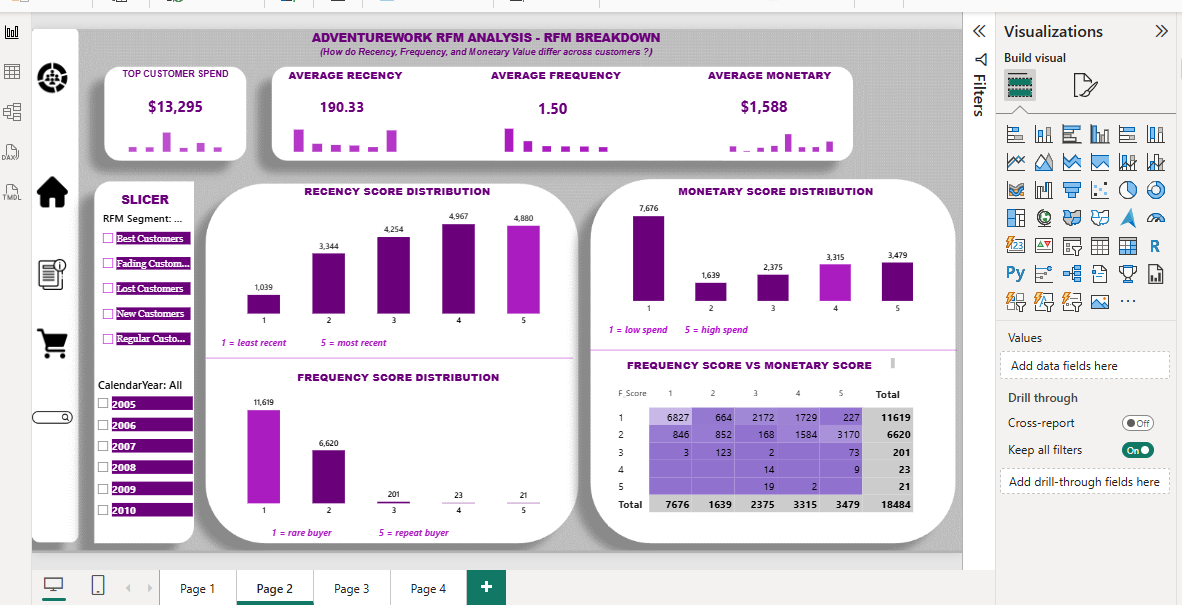

The page's visual inventory and layout, read from the dashboard file:
{"tool":"powerbi","page":{"name":"Page 2","canvas":[1920,1080],"ordinal":1},"visuals":[{"type":"textbox","box":[479,0,916.6,59.9],"z":0},{"type":"cardVisual","fields":{"Data":["_Measures.Average Recency"]},"box":[509.9,136.3,260.1,45.4],"z":1000},{"type":"cardVisual","fields":{"Data":["_Measures.Average Frequency"]},"box":[960,142.5,229.2,39.2],"z":2000},{"type":"cardVisual","fields":{"Data":["_Measures.Average Monetary"]},"box":[1395.6,136.3,231.2,45.4],"z":3000},{"type":"textbox","box":[1395.6,80.5,274.6,31],"z":4000},{"type":"textbox","box":[908.4,80.5,346.8,33],"z":5000},{"type":"textbox","box":[509.9,80.5,274.6,33],"z":6000},{"type":"clusteredColumnChart","fields":{"Category":["DimGeography.EnglishCountryRegionName"],"Y":["_Measures.Total Revenue"]},"box":[524.4,181.7,245.7,88.8],"z":7000},{"type":"clusteredColumnChart","fields":{"Category":["DimGeography.CountryRegionCode"],"Y":["_Measures.Total Customers"]},"box":[960,181.7,245.7,88.8],"z":8000},{"type":"clusteredColumnChart","fields":{"Category":["DimProduct.Color"],"Y":["_Measures.Total Customers"]},"box":[1424.5,189.9,245.7,80.5],"z":9000},{"type":"cardVisual","fields":{"Data":["_Measures.Highest Customer Spend"]},"box":[183.7,136.3,225,45.4],"z":10000},{"type":"textbox","box":[163.1,82.6,266.3,28.9],"z":11000},{"type":"clusteredColumnChart","fields":{"Category":["DimGeography.FrenchCountryRegionName"],"Y":["_Measures.Total Customers"]},"box":[183.7,189.9,225,80.5],"z":12000},{"type":"clusteredColumnChart","fields":{"Category":["DimCustomer.R_Score"],"Y":["_Measures.Total Customers"]},"box":[408.4,350.3,675.5,282.6],"z":13000},{"type":"textbox","box":[452.1,320,604.9,31],"z":14000},{"type":"clusteredColumnChart","fields":{"Category":["DimCustomer.F_Score"],"Y":["_Measures.Total Customers"]},"box":[408.4,735.5,675.5,290.3],"z":15000},{"type":"textbox","box":[408.8,704,695.7,31],"z":16000},{"type":"textbox","box":[360,632.9,743.2,32.9],"z":17000},{"type":"shape","box":[360,665.8,756.8,25.2],"z":18000},{"type":"textbox","box":[478.1,1025.8,536.1,31],"z":19000},{"type":"clusteredColumnChart","fields":{"Category":["DimCustomer.M_Score"],"Y":["_Measures.Total Customers"]},"box":[1205.8,334.8,648.4,272.9],"z":20000},{"type":"textbox","box":[1254.2,319.4,565.2,31],"z":21000},{"type":"pivotTable","fields":{"Columns":["DimCustomer.M_Score"],"Rows":["DimCustomer.F_Score"],"Values":["_Measures.Total Customers"]},"box":[1188.4,720,648.4,305.8],"z":22000},{"type":"slicer","fields":{"Values":["DimCustomer.RFM Segment"]},"box":[137.3,375.4,188.8,317.5],"z":23000},{"type":"textbox","box":[137.4,334.8,189.7,56.1],"z":24000},{"type":"textbox","box":[1189.2,662.7,590.5,55.7],"z":25000},{"type":"shape","box":[1151.6,650.3,756.8,25.2],"z":26000},{"type":"textbox","box":[1165.2,607.7,371.6,25.2],"z":27000},{"type":"image","box":[0,59.9,84.6,82.6],"z":28000},{"type":"image","box":[0,299.4,84.6,74.3],"z":29000},{"type":"image","box":[0,472.8,84.6,68.1],"z":30000},{"type":"image","box":[0,759.4,83.7,83.7],"z":31000},{"type":"slicer","fields":{"Values":["DimDate.CalendarYear"]},"box":[128.7,718.7,203.8,334.7],"z":32000},{"type":"image","box":[0,613.5,83.7,70.8],"z":33000}]}

Visuals, with their boxes on the page's 1920x1080 design canvas (x1, y1, x2, y2). These are canvas units, not pixel positions in the 1182x605 screenshot, which may show the page scaled, cropped or inside an application window:
textbox: detection(479, 0, 1396, 60)
cardVisual - _Measures.Average Recency: detection(510, 136, 770, 182)
cardVisual - _Measures.Average Frequency: detection(960, 142, 1189, 182)
cardVisual - _Measures.Average Monetary: detection(1396, 136, 1627, 182)
textbox: detection(1396, 80, 1670, 112)
textbox: detection(908, 80, 1255, 114)
textbox: detection(510, 80, 784, 114)
clusteredColumnChart - DimGeography.EnglishCountryRegionName x _Measures.Total Revenue: detection(524, 182, 770, 270)
clusteredColumnChart - DimGeography.CountryRegionCode x _Measures.Total Customers: detection(960, 182, 1206, 270)
clusteredColumnChart - DimProduct.Color x _Measures.Total Customers: detection(1424, 190, 1670, 270)
cardVisual - _Measures.Highest Customer Spend: detection(184, 136, 409, 182)
textbox: detection(163, 83, 429, 112)
clusteredColumnChart - DimGeography.FrenchCountryRegionName x _Measures.Total Customers: detection(184, 190, 409, 270)
clusteredColumnChart - DimCustomer.R_Score x _Measures.Total Customers: detection(408, 350, 1084, 633)
textbox: detection(452, 320, 1057, 351)
clusteredColumnChart - DimCustomer.F_Score x _Measures.Total Customers: detection(408, 736, 1084, 1026)
textbox: detection(409, 704, 1104, 735)
textbox: detection(360, 633, 1103, 666)
shape: detection(360, 666, 1117, 691)
textbox: detection(478, 1026, 1014, 1057)
clusteredColumnChart - DimCustomer.M_Score x _Measures.Total Customers: detection(1206, 335, 1854, 608)
textbox: detection(1254, 319, 1819, 350)
pivotTable - DimCustomer.M_Score x DimCustomer.F_Score: detection(1188, 720, 1837, 1026)
slicer - DimCustomer.RFM Segment: detection(137, 375, 326, 693)
textbox: detection(137, 335, 327, 391)
textbox: detection(1189, 663, 1780, 718)
shape: detection(1152, 650, 1908, 676)
textbox: detection(1165, 608, 1537, 633)
image: detection(0, 60, 85, 142)
image: detection(0, 299, 85, 374)
image: detection(0, 473, 85, 541)
image: detection(0, 759, 84, 843)
slicer - DimDate.CalendarYear: detection(129, 719, 332, 1053)
image: detection(0, 614, 84, 684)
